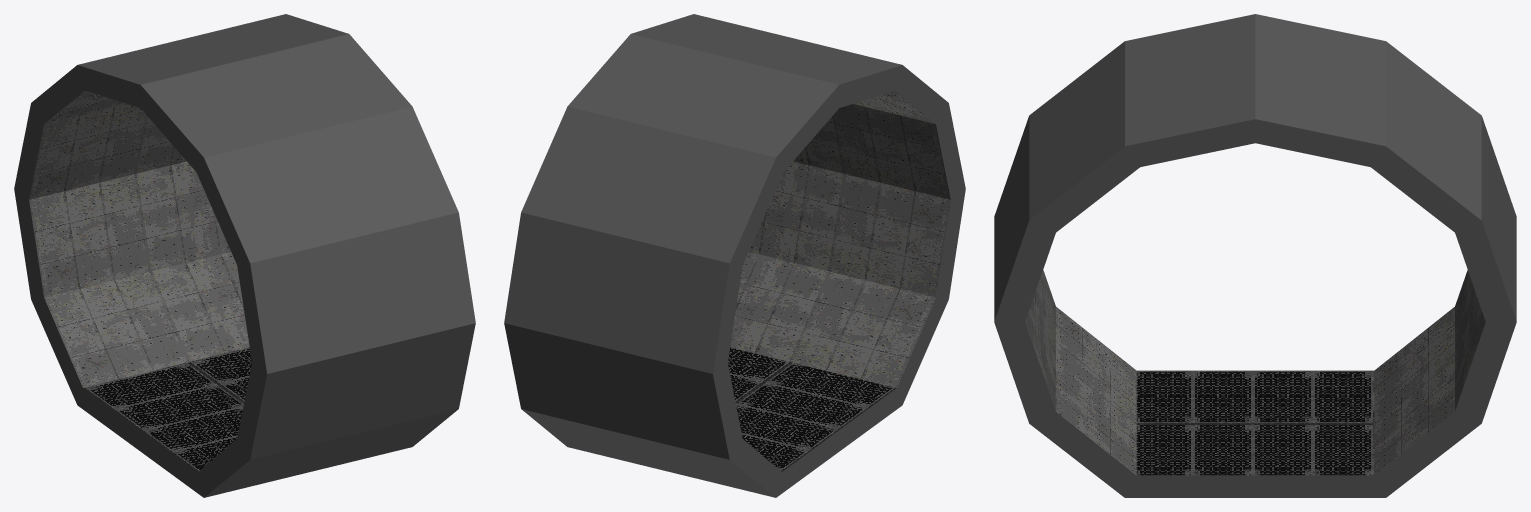
File: Concrete_Cylinder_Hallway-col.glb
The picture shows the model from 3 angles, left to right: view 1: azimuth 30°, elevation 25°; view 2: azimuth 150°, elevation 25°; view 3: azimuth 270°, elevation 25°; orthographic projection. The views are drawn at different scales.
Parts seen in each view (by area): view 1: Concrete_Cylinder_Hallway-col; view 2: Concrete_Cylinder_Hallway-col; view 3: Concrete_Cylinder_Hallway-col.
Boxes of the visible parts, x1,y1,x2,y2 form: Concrete_Cylinder_Hallway-col: (14, 14, 475, 497); Concrete_Cylinder_Hallway-col: (504, 14, 965, 497); Concrete_Cylinder_Hallway-col: (994, 14, 1516, 497).
Bounding box in the file's own units: 2 × 3.36 × 4.2.
1 material, 1 textured.
